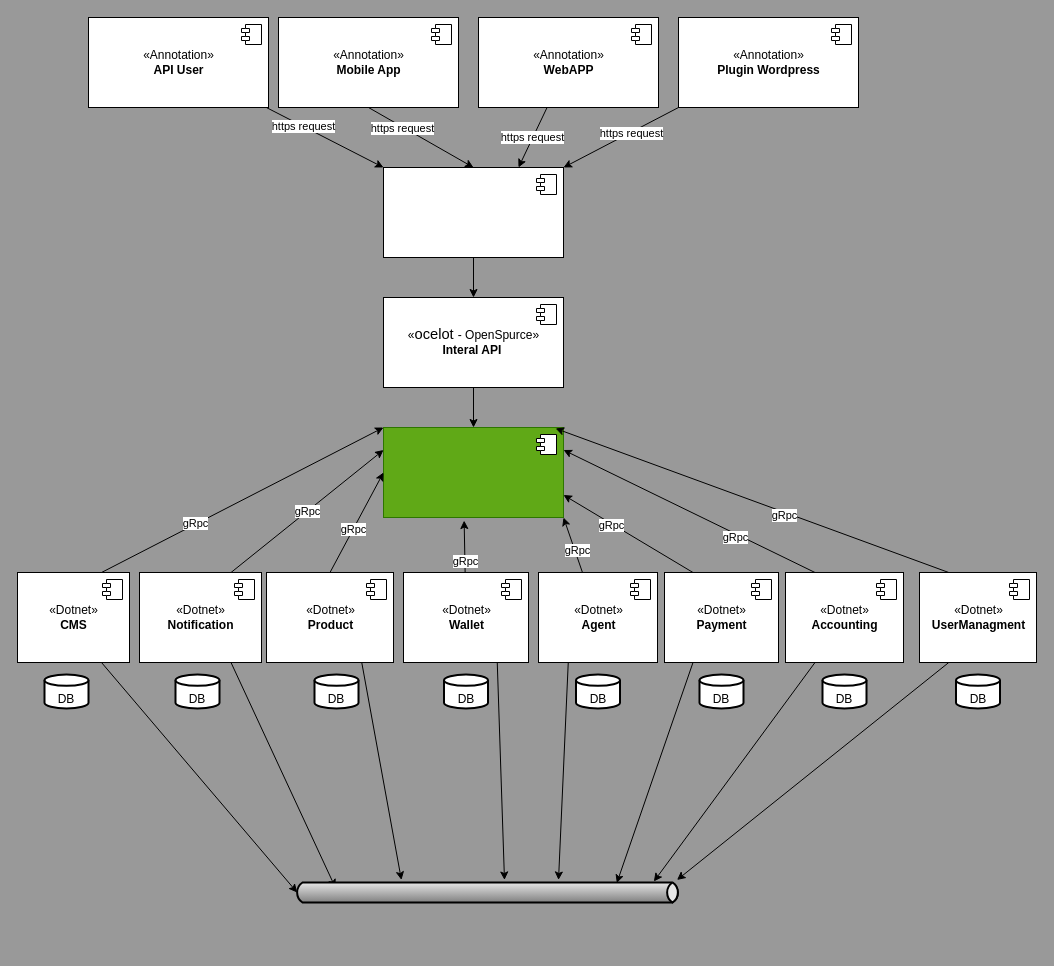
Some shapes in this 1054 by 966 pixel diagram are drawn without their labels. Each missing label, with the centre of its shape:
MASSAGE BROKER: (487,892)
«Annotation» API Gatway: (473,212)
«Dotnet» Core: (473,472)
